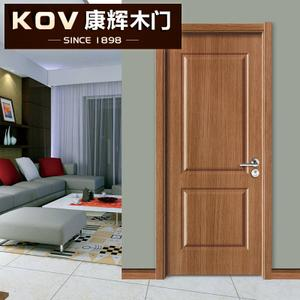door: (166, 36, 259, 274)
